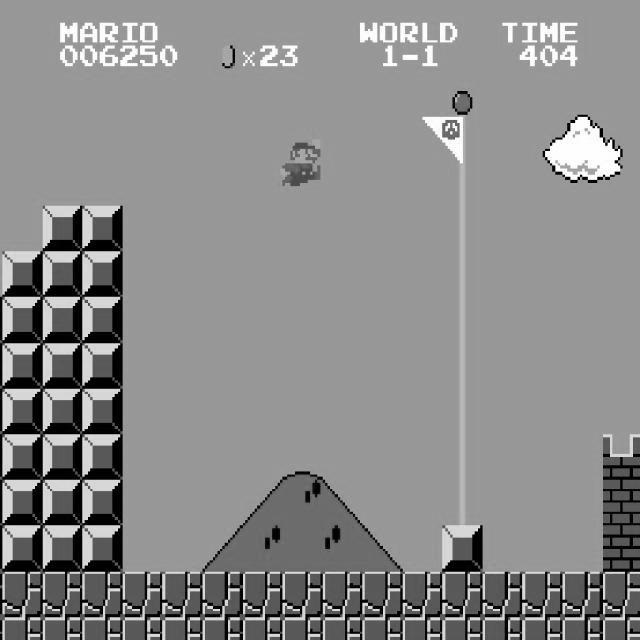11- little_mario: (277, 137, 320, 186)
17- undestructible_block: (2, 572, 43, 618), (42, 572, 83, 618), (82, 572, 123, 618), (122, 572, 163, 618), (162, 572, 203, 618), (202, 572, 243, 618), (242, 572, 283, 618), (282, 572, 323, 618), (322, 572, 363, 618), (362, 572, 403, 618), (402, 572, 443, 618), (442, 572, 483, 618), (482, 572, 523, 618), (522, 572, 563, 618), (562, 572, 603, 618), (603, 572, 640, 618), (2, 617, 43, 640), (42, 617, 83, 640), (82, 617, 123, 640), (122, 617, 163, 640), (162, 617, 203, 640), (202, 617, 243, 640), (242, 617, 283, 640), (282, 617, 323, 640), (322, 617, 363, 640), (362, 617, 403, 640), (402, 617, 443, 640), (442, 617, 483, 640), (482, 617, 523, 640), (522, 617, 563, 640), (562, 617, 603, 640), (603, 617, 640, 640), (0, 571, 2, 617), (0, 617, 2, 639)
7- goal_pole: (442, 68, 483, 114), (442, 114, 483, 160), (442, 160, 483, 206), (442, 252, 483, 298), (442, 297, 483, 343), (442, 388, 483, 434), (442, 434, 483, 480), (442, 480, 483, 526), (442, 206, 483, 251), (442, 343, 483, 388)
9- hard_block: (2, 252, 43, 298), (2, 297, 43, 343), (2, 388, 43, 434), (2, 434, 43, 480), (2, 480, 43, 526), (2, 526, 43, 572), (42, 252, 83, 298), (42, 297, 83, 343), (42, 388, 83, 434), (42, 434, 83, 480), (42, 480, 83, 526), (42, 526, 83, 572), (82, 252, 123, 298), (82, 297, 123, 343), (82, 388, 123, 434), (82, 434, 123, 480), (82, 480, 123, 526), (82, 526, 123, 572), (442, 526, 483, 572), (2, 343, 43, 388), (42, 206, 83, 251), (42, 343, 83, 388), (82, 206, 123, 251), (82, 343, 123, 388), (0, 342, 2, 388), (0, 388, 2, 434), (0, 525, 2, 571), (0, 297, 2, 342), (0, 434, 2, 479), (0, 480, 2, 525)
